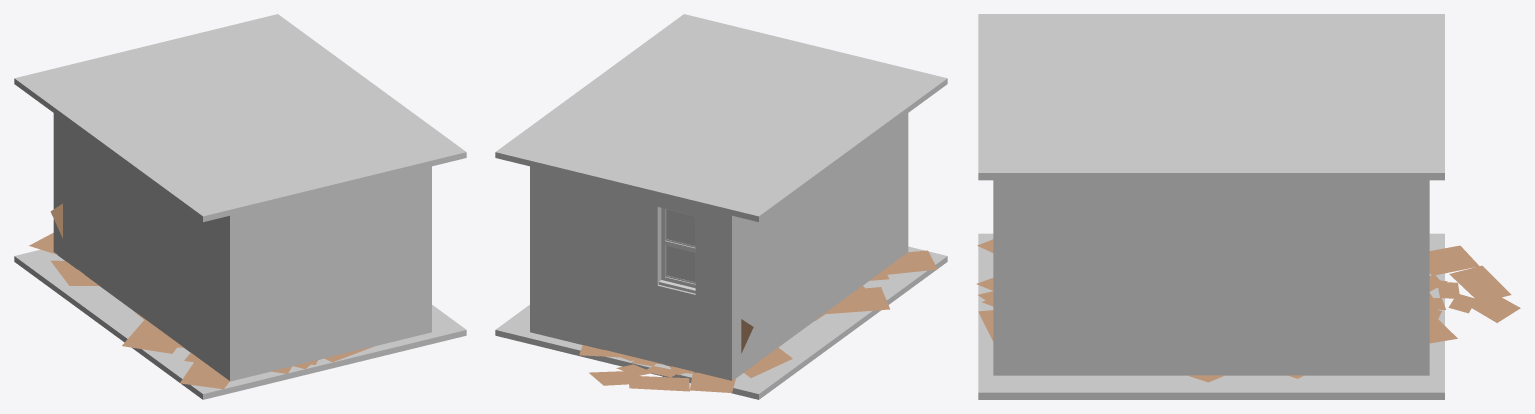
The model's file is FloorPlan429.fbx.
3 renders of one model, left to right at view 1: azimuth 30°, elevation 25°; view 2: azimuth 150°, elevation 25°; view 3: azimuth 270°, elevation 25°, orthographic. The views are drawn at different scales.
Parts seen in each view (by area): view 1: Room.023, Cube.2002, Cube.2003, Decals.014, Decals.012; view 2: Room.023, Cube.2002, Cube.2003, Decals.012, Window.025, Decals.014, Decals.015; view 3: Room.023, Cube.2002, Cube.2003, Decals.012, Decals.015, Decals.013.
Boxes of the visible parts, <box> form: Room.023: <box>53,113,431,381</box>; Cube.2002: <box>14,14,466,221</box>; Cube.2003: <box>14,249,466,399</box>; Decals.014: <box>122,312,317,389</box>; Decals.012: <box>29,233,99,286</box>; Room.023: <box>530,113,908,380</box>; Cube.2002: <box>495,14,947,221</box>; Cube.2003: <box>495,246,947,399</box>; Decals.012: <box>579,345,792,392</box>; Window.025: <box>659,208,695,293</box>; Decals.014: <box>814,250,937,320</box>; Decals.015: <box>589,319,753,385</box>; Room.023: <box>993,180,1429,375</box>; Cube.2002: <box>978,14,1444,180</box>; Cube.2003: <box>978,233,1444,399</box>; Decals.012: <box>1429,245,1511,343</box>; Decals.015: <box>1448,291,1520,322</box>; Decals.013: <box>978,291,1304,382</box>.
Bounding box in the file's own units: 399 × 278 × 552.
